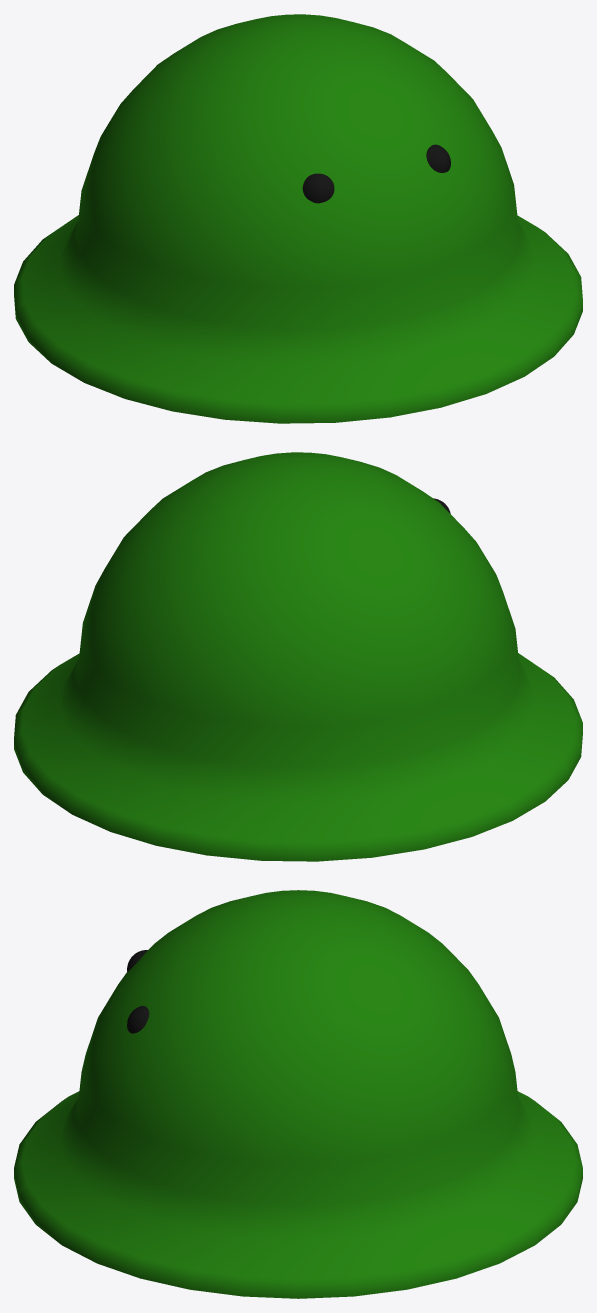
Rendered from Slime_Coco.fbx.
The picture shows the model from 3 angles, top to bottom: view 1: azimuth 30°, elevation 25°; view 2: azimuth 150°, elevation 25°; view 3: azimuth 270°, elevation 25°; orthographic projection.
Visible parts, largest first — view 1: Sphere001; view 2: Sphere001; view 3: Sphere001.
Part boxes in pixels (x1,y1,x2,y2): Sphere001: (14,14,582,423); Sphere001: (14,452,582,861); Sphere001: (14,890,582,1298).
Size of the model in its own units: 20.53 by 10.67 by 20.53.
